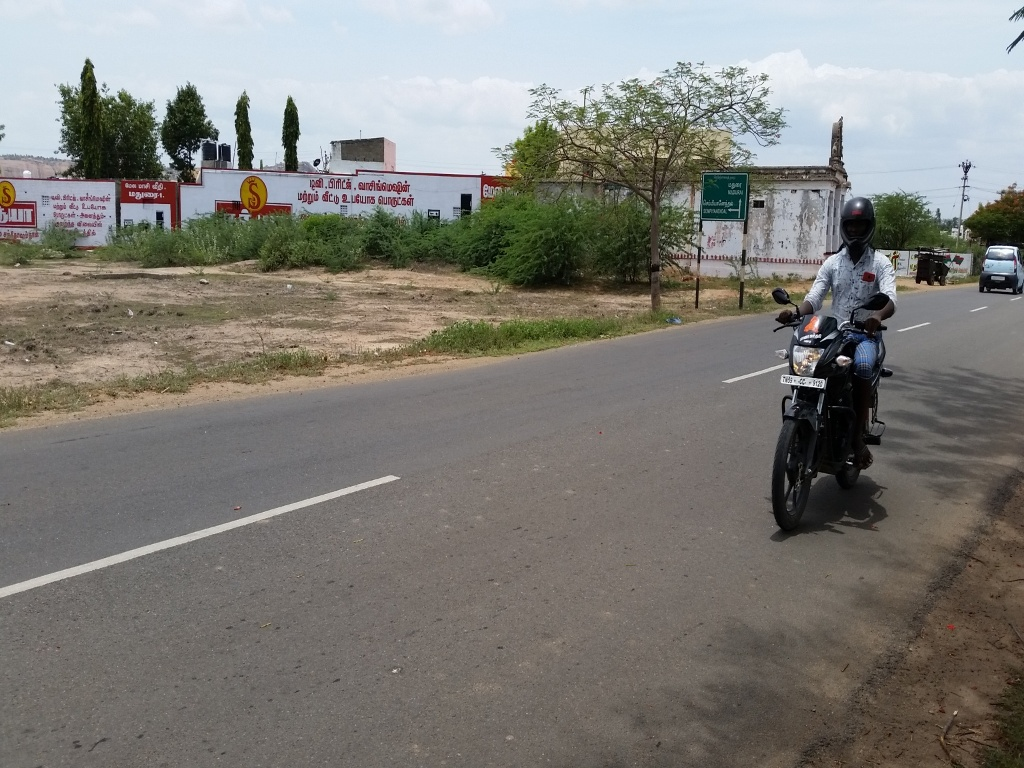biker: (756, 156, 926, 545)
helmet: (830, 183, 890, 270)
